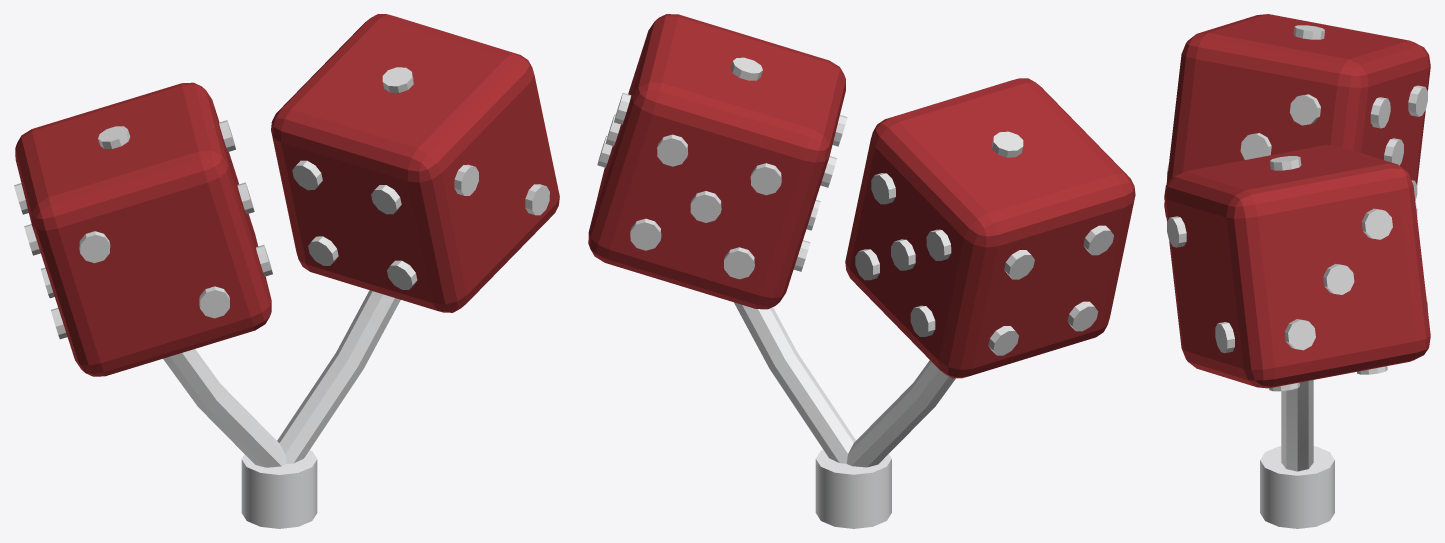
File: bob_dice.fbx
3 renders of one model, left to right at view 1: azimuth 30°, elevation 25°; view 2: azimuth 150°, elevation 25°; view 3: azimuth 270°, elevation 25°, orthographic.
Visible parts, largest first — view 1: felt_1, chrome_1, white_1; view 2: felt_1, chrome_1, white_1; view 3: felt_1, chrome_1, white_1.
Part boxes in pixels (box(x1,y1,x2,y2)): felt_1: box(15, 14, 559, 376); chrome_1: box(163, 290, 400, 528); white_1: box(14, 67, 549, 339); felt_1: box(588, 14, 1135, 378); chrome_1: box(734, 302, 955, 528); white_1: box(597, 57, 1113, 355); felt_1: box(1164, 14, 1430, 388); chrome_1: box(1260, 380, 1334, 528); white_1: box(1167, 25, 1427, 391).
Bounding box in the file's own units: 0.0205 × 0.016 × 0.00922.
